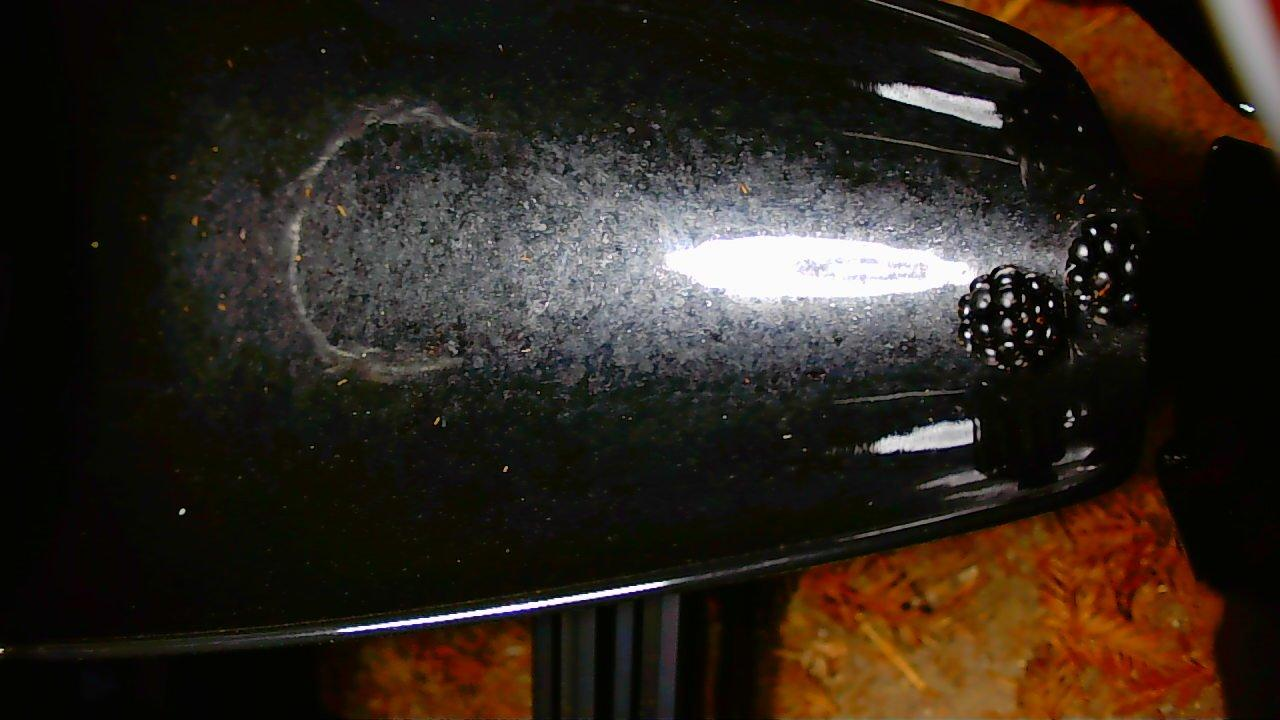berry: (958, 265, 1065, 369), (1065, 216, 1140, 324)
